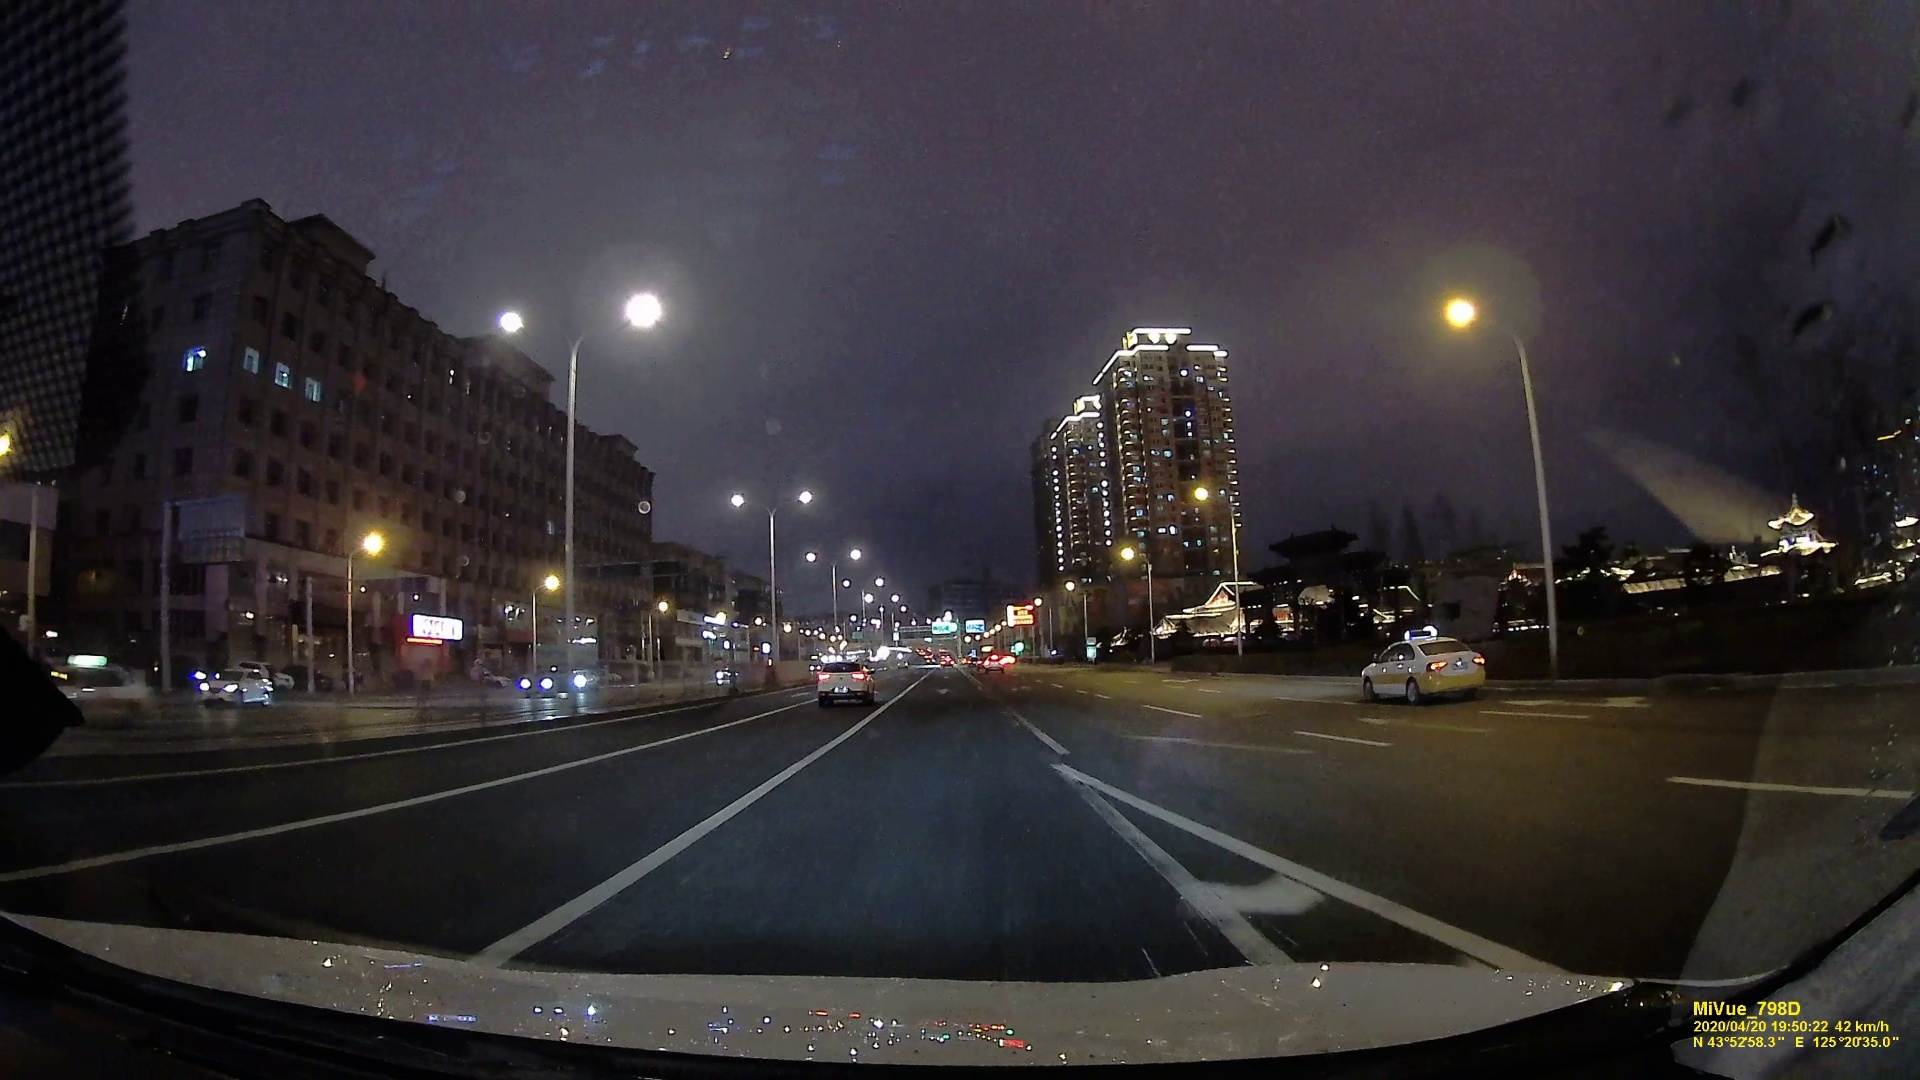traffic_sign: (965, 618, 985, 633), (932, 622, 951, 634)
vehicle: (1364, 636, 1490, 704), (193, 665, 274, 707), (816, 657, 876, 705), (520, 665, 572, 698), (984, 655, 1005, 673)
